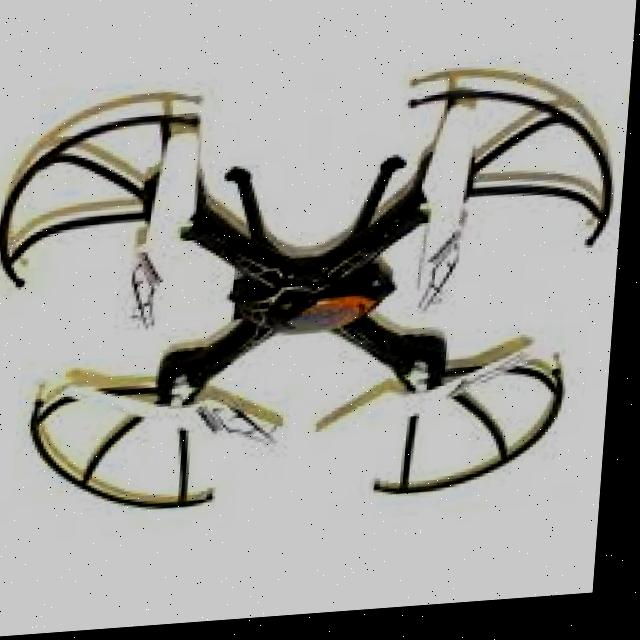drone: (0, 64, 634, 526)
